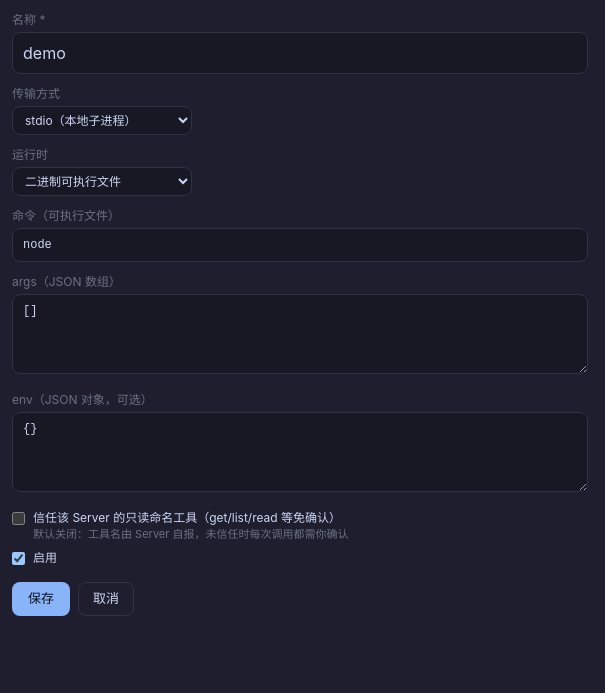
McpForm 处理 none 模式闸门拒绝 › 拒绝文案就地展示，成功回调不触发
The image size is (605, 693).
Click the button "保存".
click(41, 599)  # box [12,582,70,616]
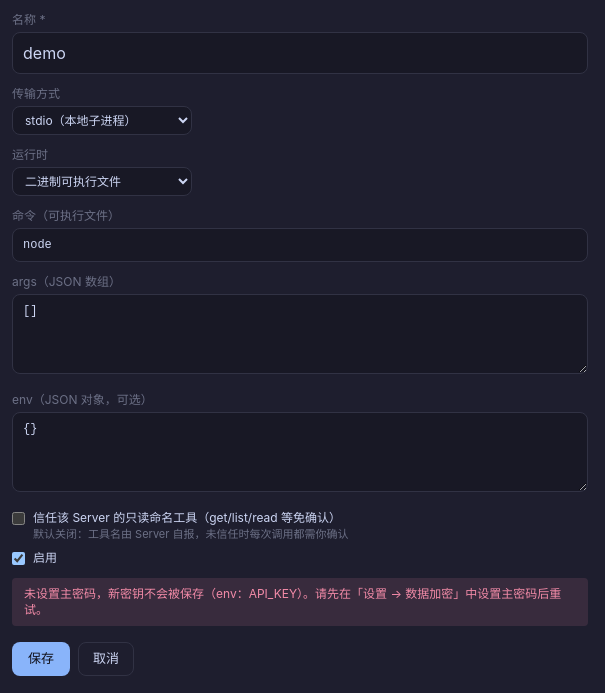
Result: the text "未设置主密码，新密钥不会被保存（env：API_KEY）。请先在「设置 → 数据加密」中设置主密码后重试。" is shown at [12,578,588,626]
